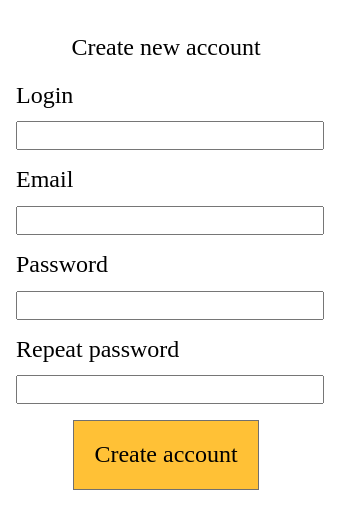
RegisterPage › should display alert when passwords are not equal
Type "login123" into the field with test id "login" at (170, 136), box top-left (16, 121), bottom-right (324, 150)
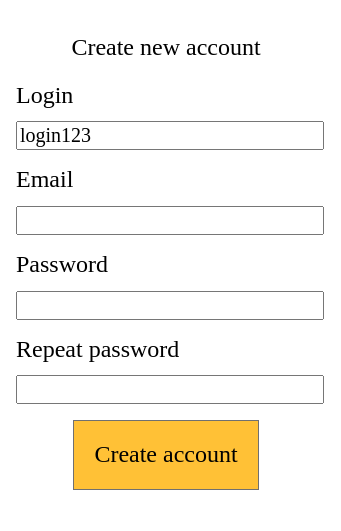
Type "email@gmail.com" into the field with test id "email" at (170, 220), box top-left (16, 206), bottom-right (324, 235)
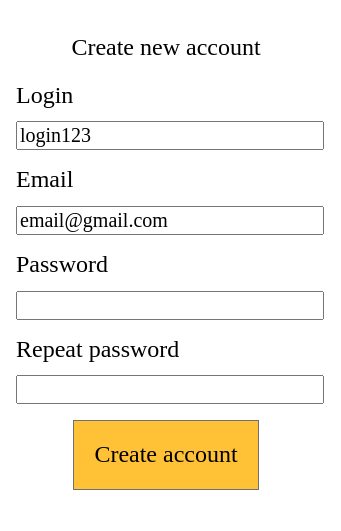
Type "password123" into the password field with test id "password" at (170, 305), box top-left (16, 290), bottom-right (324, 320)
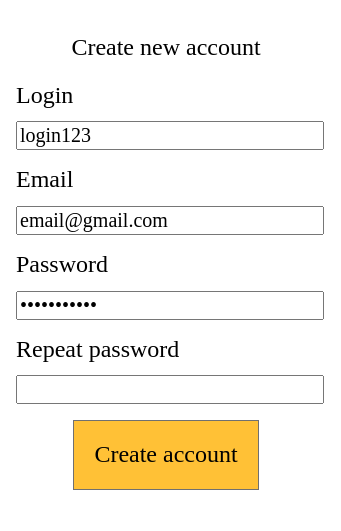
Type "badrepeat123" into the password field with test id "passwordRepeat" at (170, 390), box top-left (16, 375), bottom-right (324, 404)
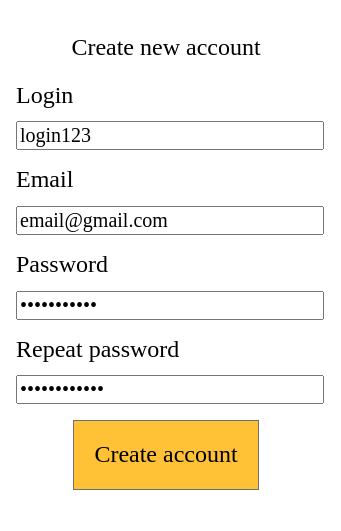
Click the button with test id "submit" at (166, 455), box top-left (73, 420), bottom-right (259, 490)
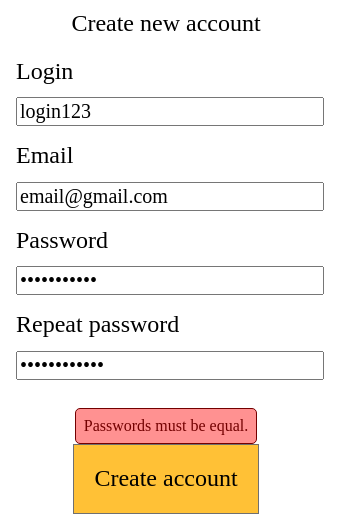
Check: the text "Passwords must be equal." is shown, box top-left (75, 408), bottom-right (257, 444)
Check: the text with test id "alert" reads "Passwords must be equal.", box top-left (84, 417), bottom-right (248, 434)
